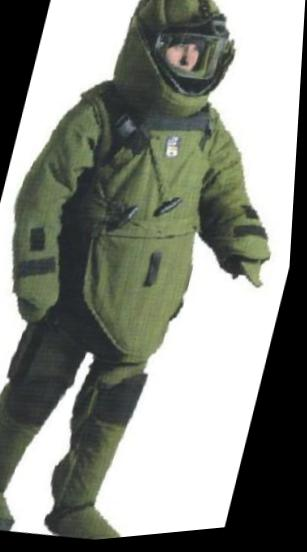WRONG: (146, 31, 211, 98)
